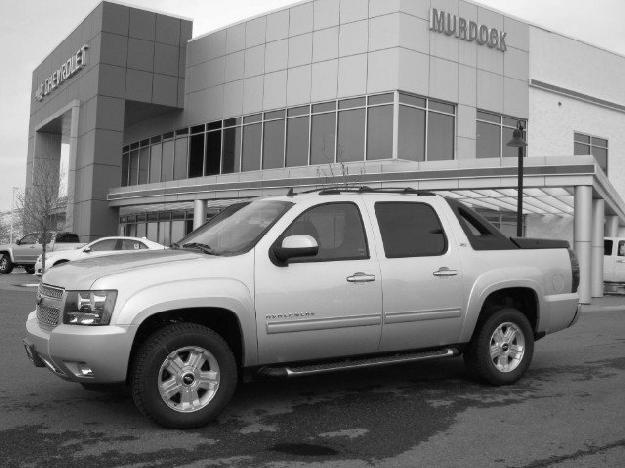car: (24, 188, 582, 433)
